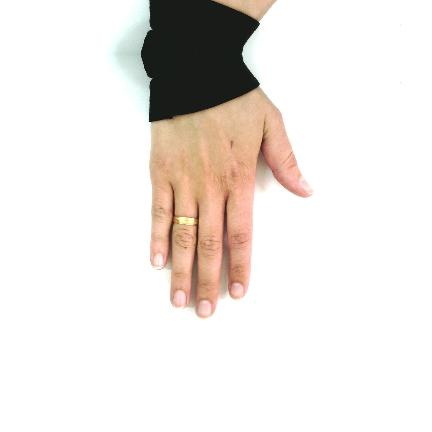Nail: (196, 300, 212, 319), (299, 176, 315, 194), (230, 282, 245, 300), (172, 290, 186, 309), (151, 253, 165, 270)
